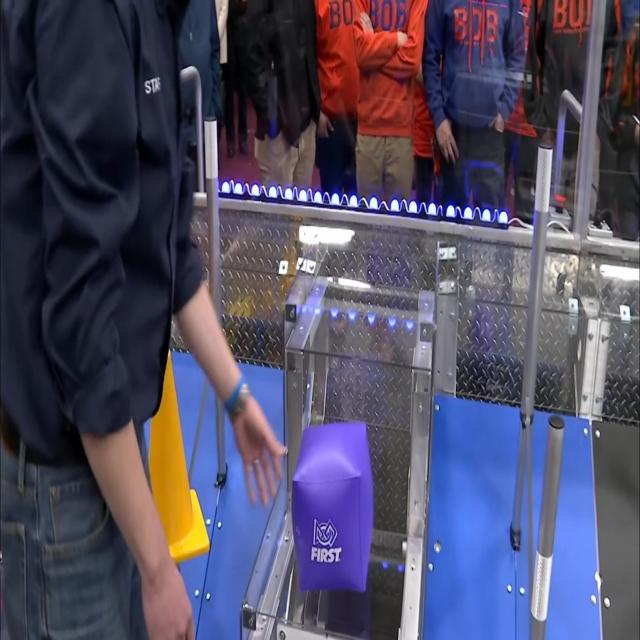frc_cone: (146, 344, 209, 560)
frc_cube: (292, 418, 373, 594)
